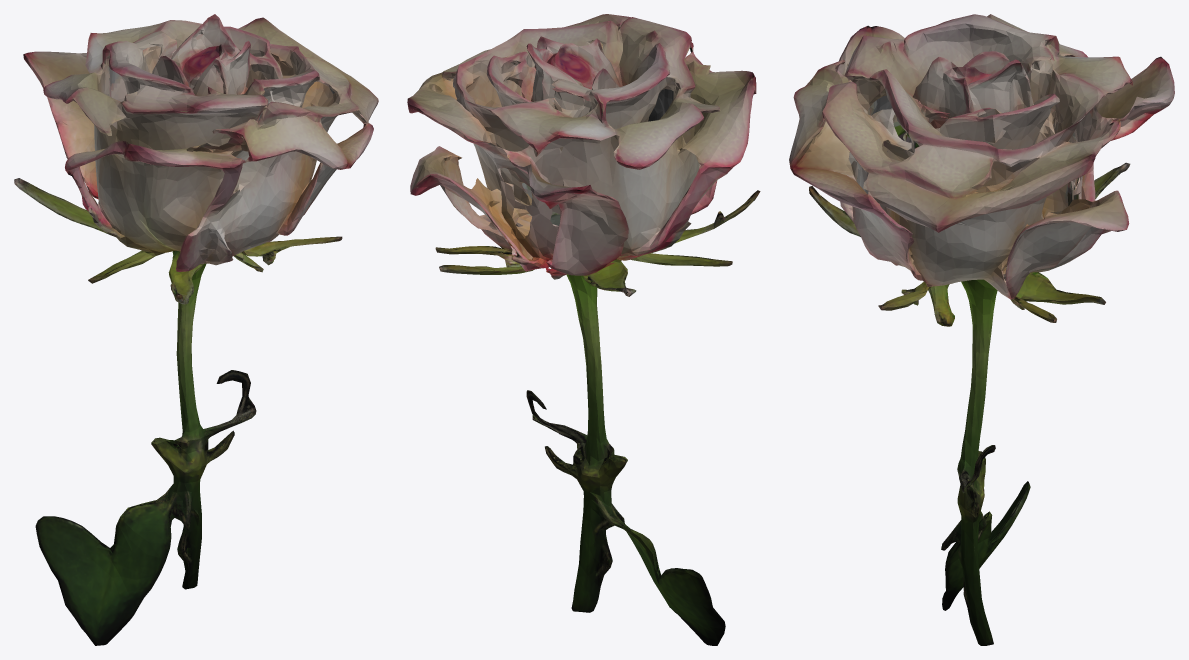
3 renders of one model, left to right at view 1: azimuth 30°, elevation 25°; view 2: azimuth 150°, elevation 25°; view 3: azimuth 270°, elevation 25°, orthographic. The views are drawn at different scales.
Parts seen in each view (by area): view 1: world; view 2: world; view 3: world.
Part boxes in pixels (<box>): world: <box>14,14,378,645</box>; world: <box>407,14,760,645</box>; world: <box>789,14,1174,645</box>.
Bounding box in the file's own units: 0.5554 × 0.9962 × 0.5553.
Materials: 1 (1 with a texture image).
